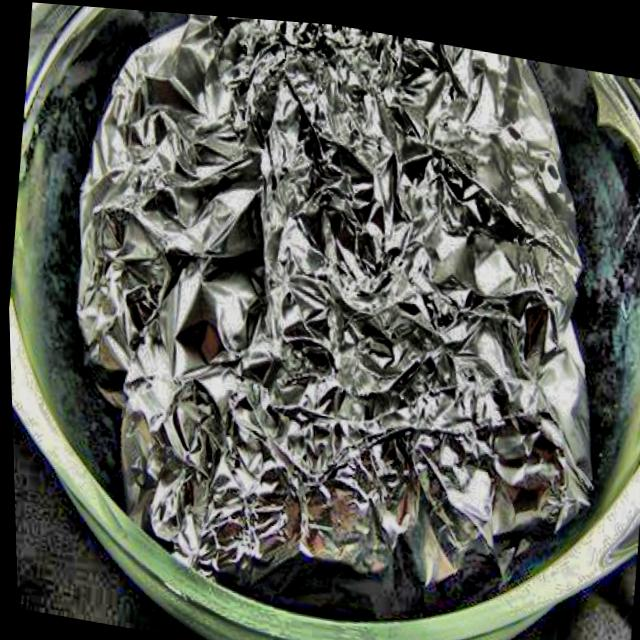Foil: (29, 2, 634, 640)
